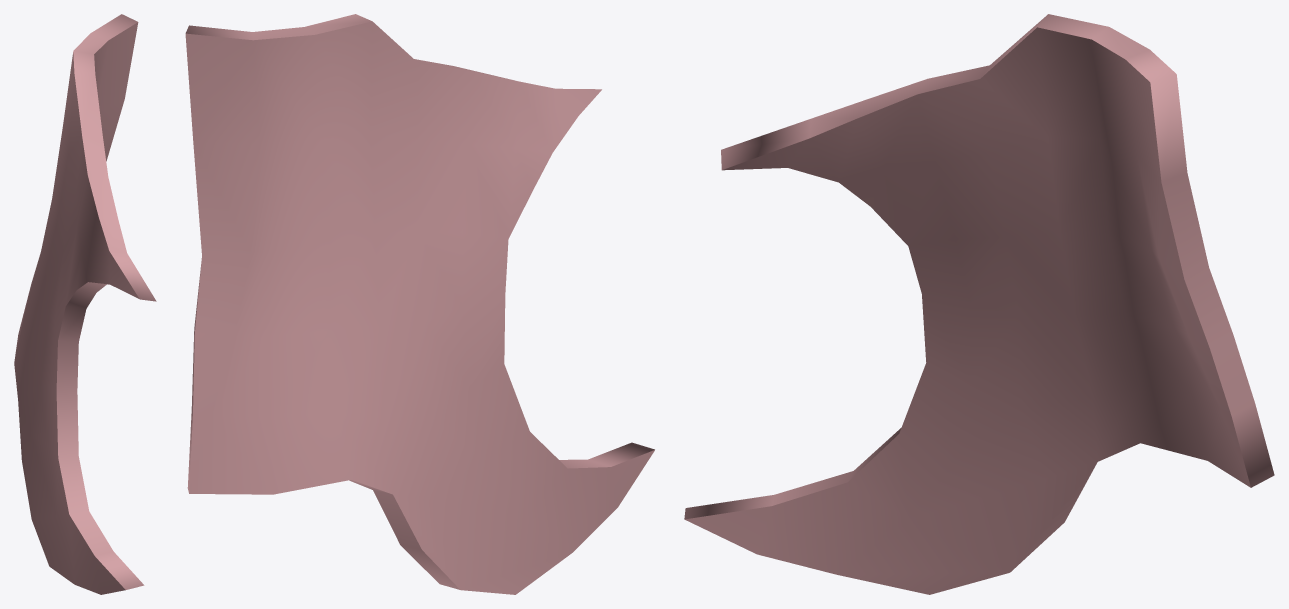
3 views of the same model, side by side, from view 1: azimuth 30°, elevation 25°; view 2: azimuth 150°, elevation 25°; view 3: azimuth 270°, elevation 25° (orthographic). The views are drawn at different scales.
Parts seen in each view (by area): view 1: ZA_dfb8fece4c232e37; view 2: ZA_dfb8fece4c232e37; view 3: ZA_dfb8fece4c232e37.
Boxes of the visible parts, <box> form: ZA_dfb8fece4c232e37: <box>14,14,156,594</box>; ZA_dfb8fece4c232e37: <box>185,14,654,594</box>; ZA_dfb8fece4c232e37: <box>684,14,1274,594</box>.
Size of the model in its own units: 0.0299 by 0.0706 by 0.0613.
